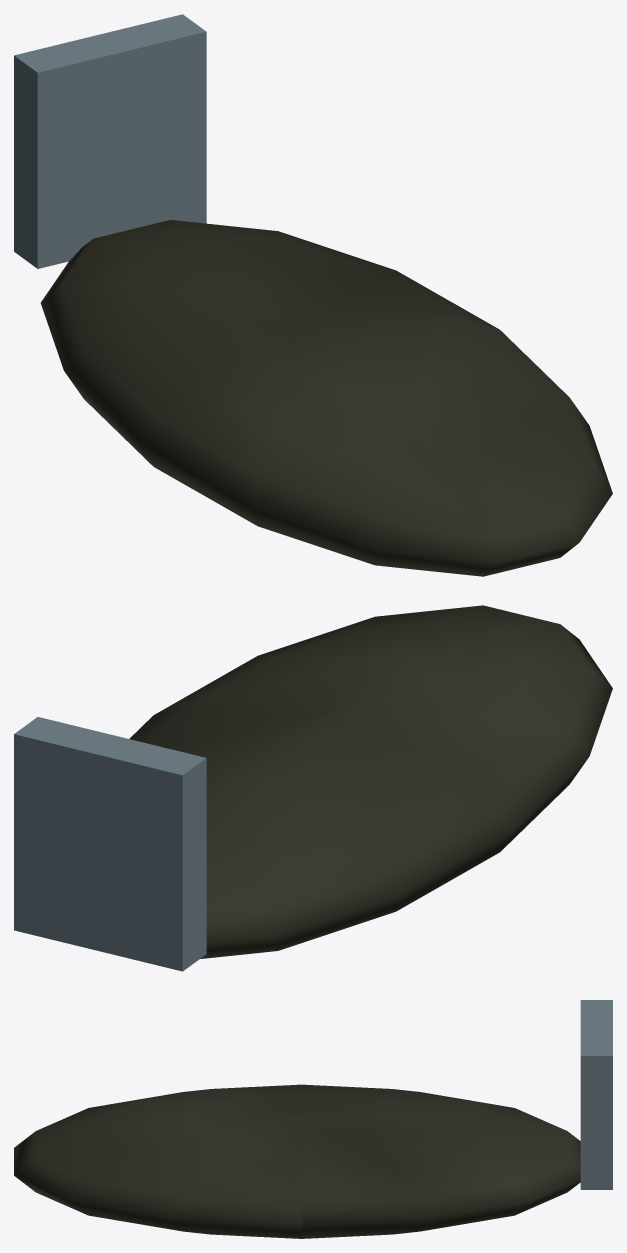
Rendered from tumulo.glb.
3 views of the same model, one above another, from view 1: azimuth 30°, elevation 25°; view 2: azimuth 150°, elevation 25°; view 3: azimuth 270°, elevation 25° (orthographic). The views are drawn at different scales.
Visible parts, largest first — view 1: Prop; view 2: Prop; view 3: Prop.
Boxes of the visible parts, left/top/right/bottom form: Prop: left=14, top=14, right=612, bottom=576; Prop: left=14, top=605, right=612, bottom=971; Prop: left=14, top=1000, right=612, bottom=1238.
Size of the model in its own units: 2 by 1.35 by 4.06.
